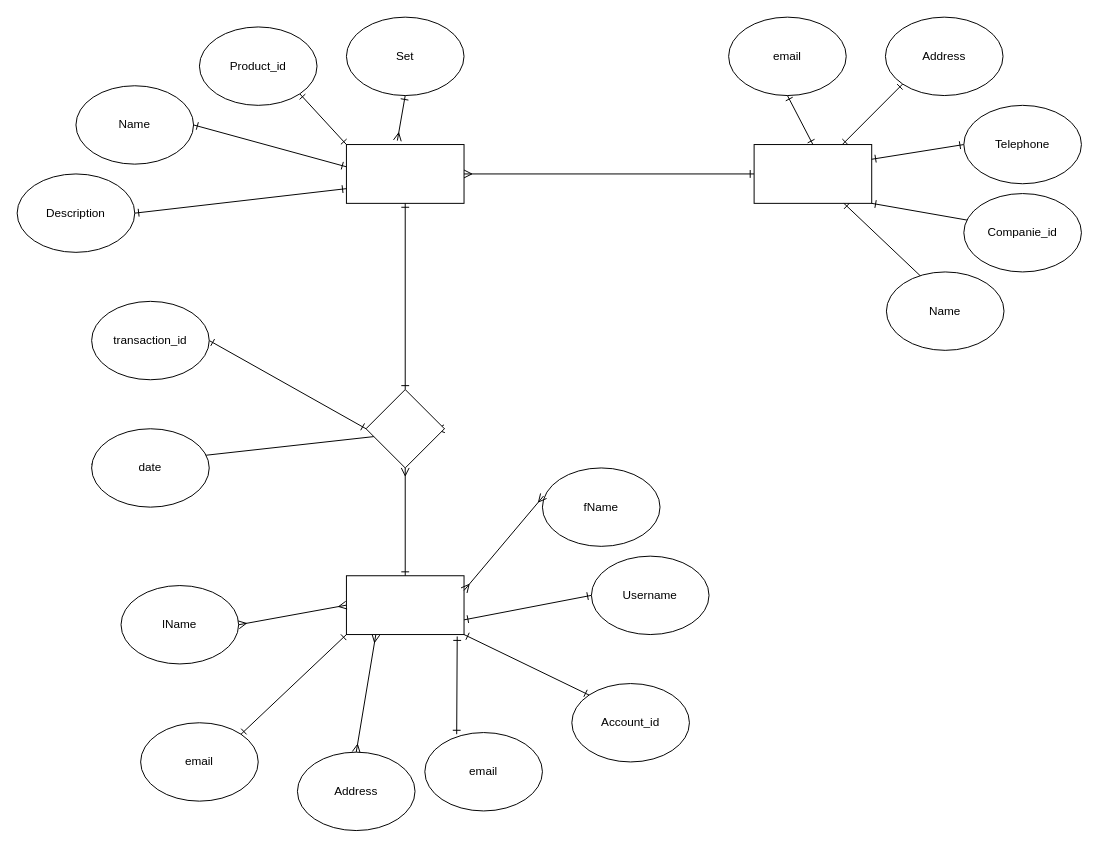
Some shapes in this 1099 by 848 pixel diagram are drawn without their labels. The centre of each missing label's shape, as x and y in pixels:
"Companie" goes at (812,173).
"Customer" goes at (404,605).
"Product" goes at (404,173).
"transaction" goes at (404,428).
